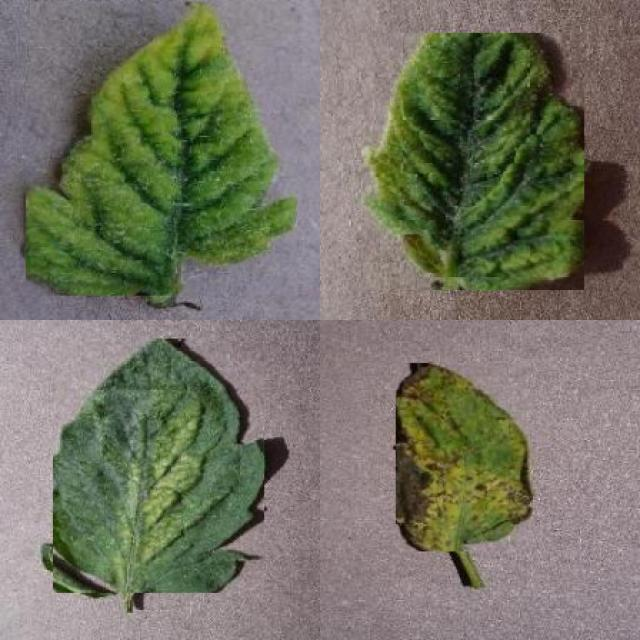Septoria: (396, 363, 534, 551)
Spider Mites: (54, 338, 265, 593)
Yellow Leaf Curl Virus: (26, 1, 297, 296), (362, 34, 584, 290)
